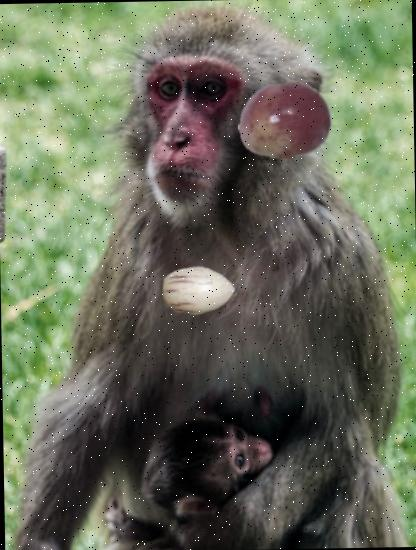Cherry: (236, 72, 334, 168)
Pepino: (162, 253, 235, 326)
